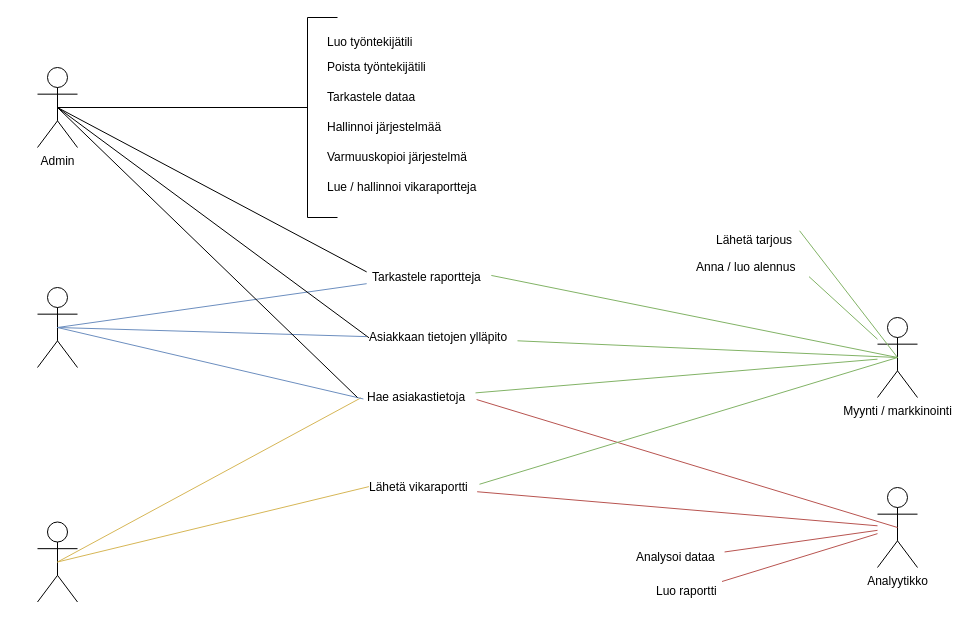
Image size: 969x640. Some labels were removed from this diagram. Here are the shapes that lost their labels. From the top down, the box of each, then its label:
(36, 286, 78, 368): Asiakaspalvelu
(36, 521, 78, 602): Johto
